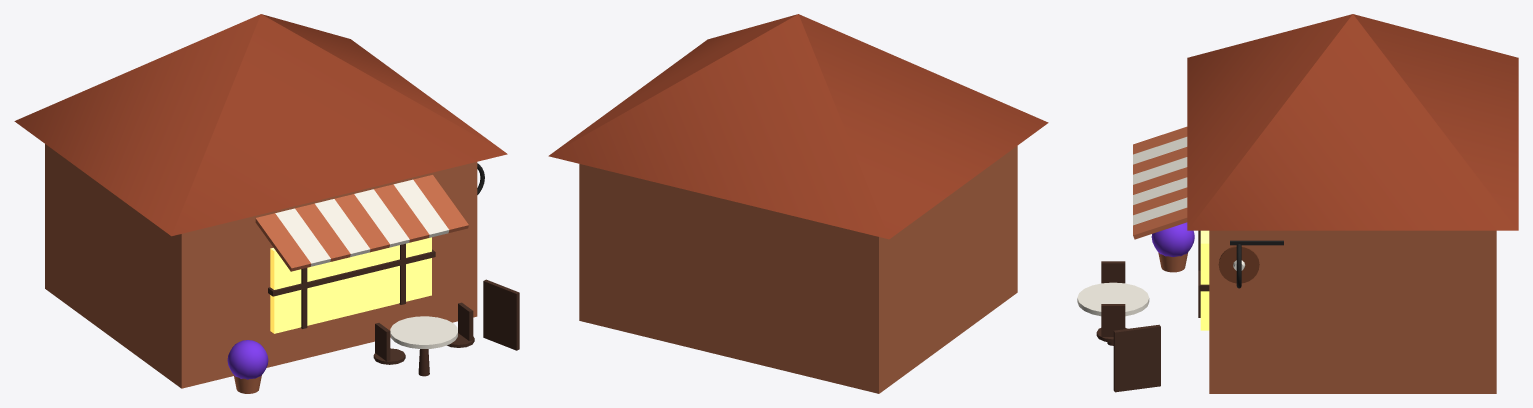
File: bakery.glb
The picture shows the model from 3 angles, left to right: view 1: azimuth 30°, elevation 25°; view 2: azimuth 150°, elevation 25°; view 3: azimuth 270°, elevation 25°; orthographic projection. The views are drawn at different scales.
Parts seen in each view (by area): view 1: bakery; view 2: bakery; view 3: bakery.
Part boxes in pixels (<box>): bakery: <box>14,14,519,393</box>; bakery: <box>548,14,1048,393</box>; bakery: <box>1077,14,1518,393</box>.
Bounding box in the file's own units: 3.43 × 2.8 × 3.68.
